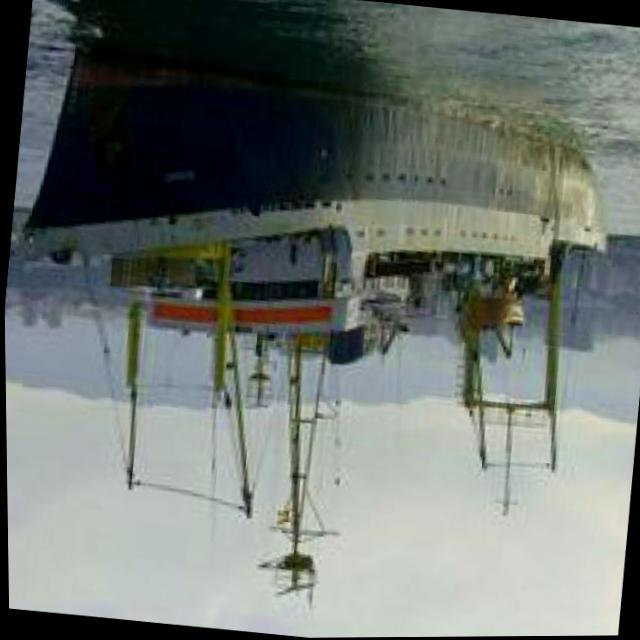ship2: (18, 38, 609, 596)
